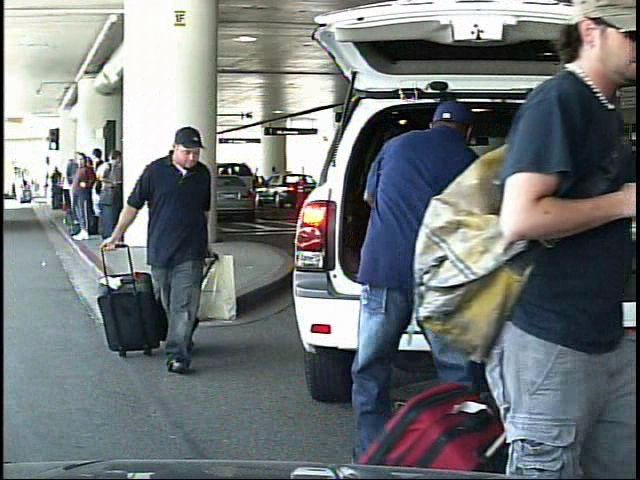person: (447, 12, 638, 476), (327, 85, 503, 476), (99, 122, 234, 380), (14, 173, 24, 204)
